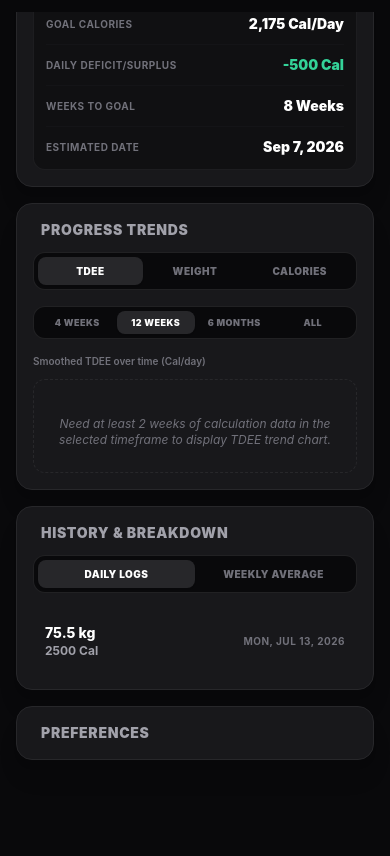
Test: TDEEScreen › weekly history › renders averages, deltas and TDEE newest first
(page scrolled)
Click the element with test id "weekly-average-tab": [273, 574] box [223,568,324,580]
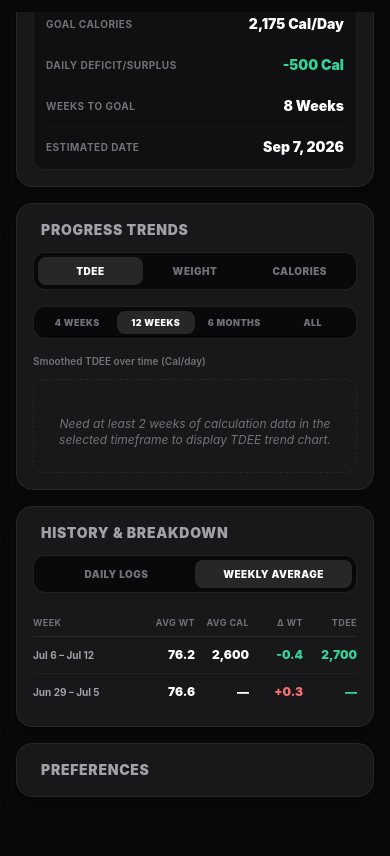
Expected: the text "76.2" is shown, [168,647,195,662]
Expected: the text "2,600" is shown, [212,647,249,662]
Expected: the text "-0.4" is shown, [276,647,303,662]
